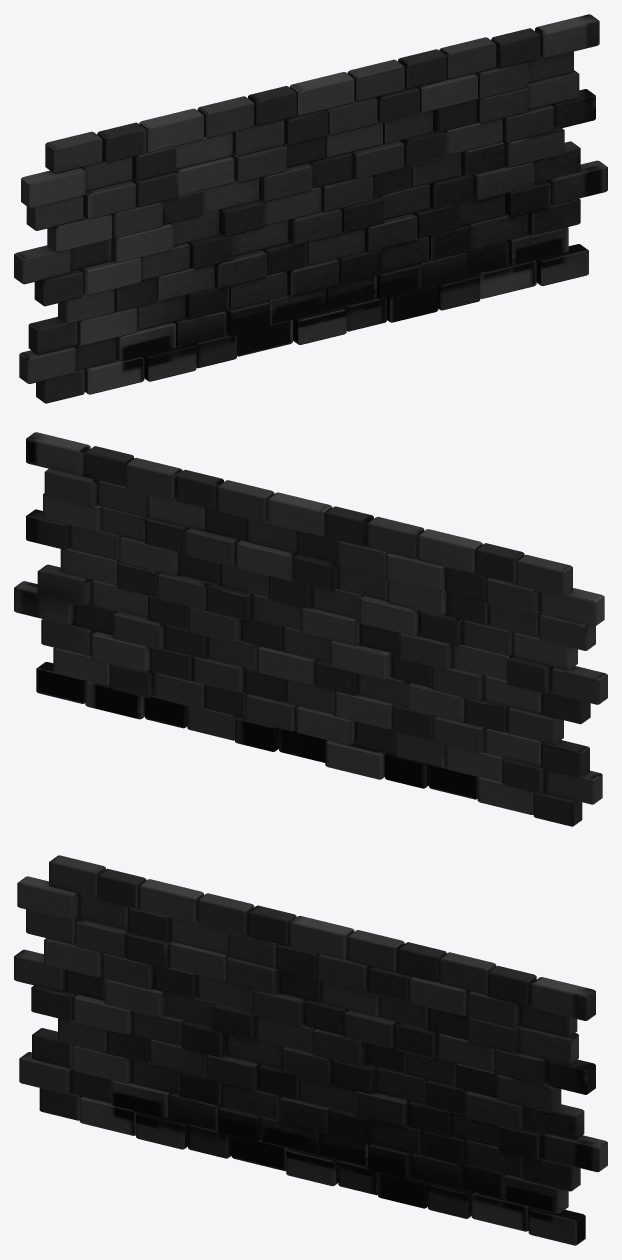
Rendered from wall2.glb.
3 renders of one model, top to bottom at view 1: azimuth 30°, elevation 25°; view 2: azimuth 150°, elevation 25°; view 3: azimuth 330°, elevation 25°, orthographic.
Visible parts, largest first — view 1: wall1; view 2: wall1; view 3: wall1.
Boxes of the visible parts, x1,y1,x2,y2 form: wall1: (14,14,607,403); wall1: (14,432,607,826); wall1: (14,855,607,1245).
Bounding box in the file's own units: 7.28 × 3 × 0.2769.
Materials: 3 (3 with a texture image).
